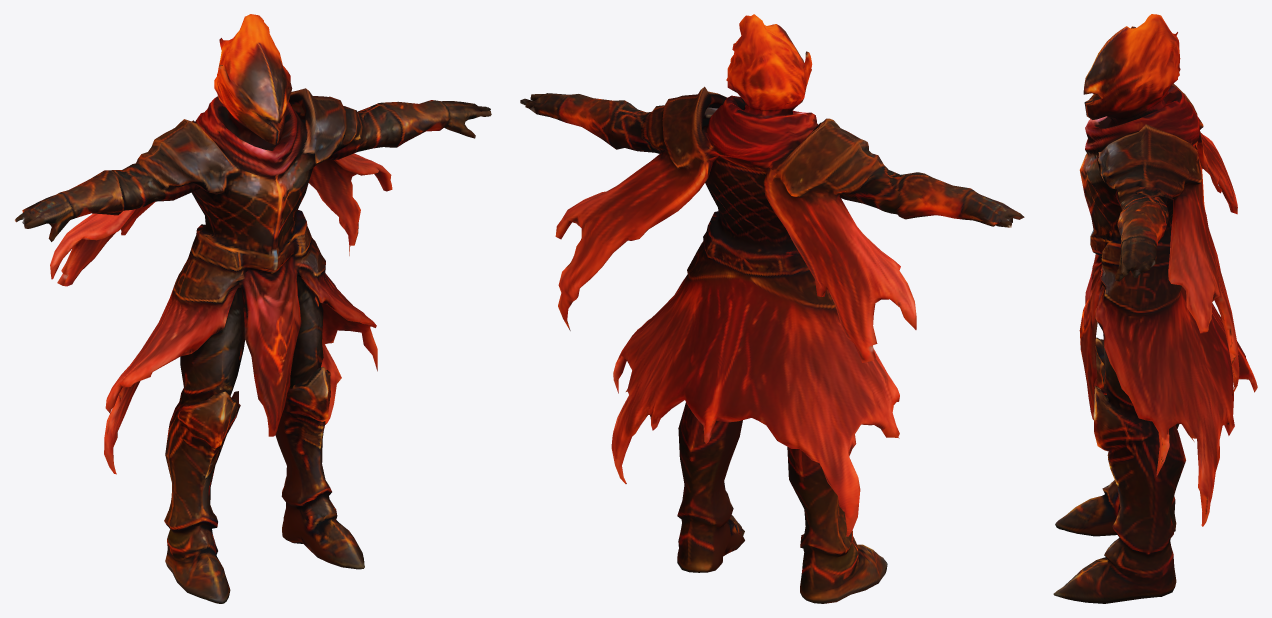
Rendered from base_basic_shaded.fbx.
3 renders of one model, left to right at view 1: azimuth 30°, elevation 25°; view 2: azimuth 150°, elevation 25°; view 3: azimuth 270°, elevation 25°, orthographic. The views are drawn at different scales.
Parts seen in each view (by area): view 1: model; view 2: model; view 3: model.
Part boxes in pixels (x1,y1,x2,y2): model: (14, 14, 491, 603); model: (520, 14, 1024, 603); model: (1053, 14, 1257, 603).
Size of the model in its own units: 165 by 180 by 60.27.
